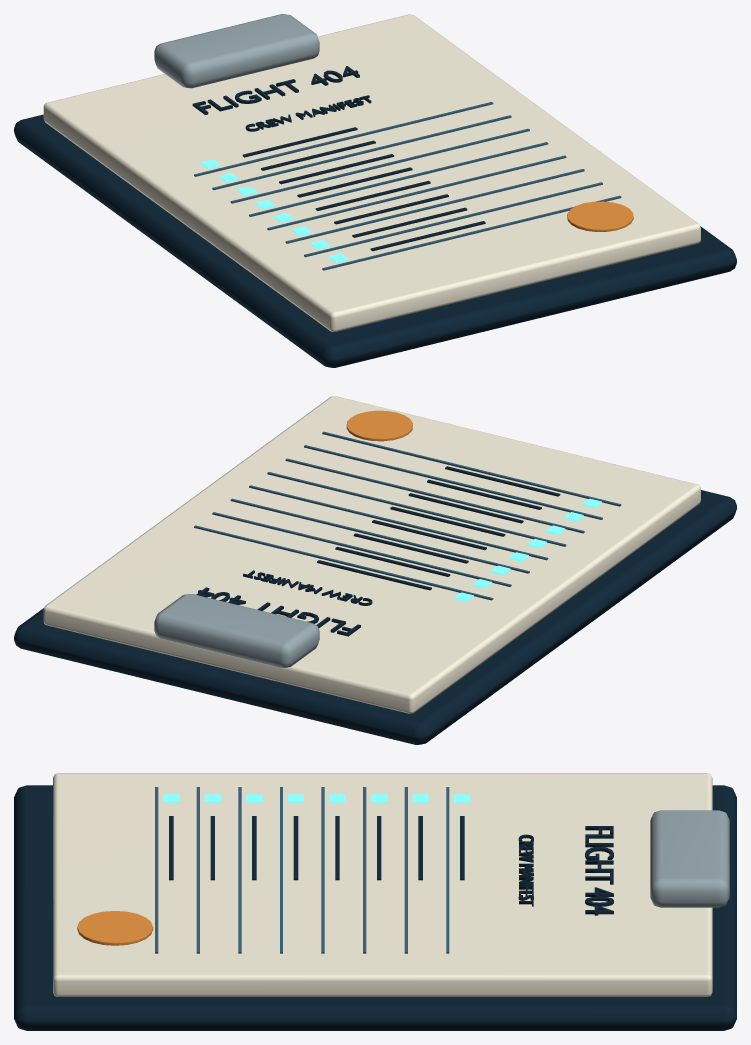
The model's file is crew-documents.glb.
3 renders of one model, top to bottom at view 1: azimuth 30°, elevation 25°; view 2: azimuth 150°, elevation 25°; view 3: azimuth 270°, elevation 25°, orthographic. The views are drawn at different scales.
Visible parts, largest first — view 1: crew-documents; view 2: crew-documents; view 3: crew-documents.
Part boxes in pixels (x1,y1,x2,y2): crew-documents: [14, 14, 736, 367]; crew-documents: [14, 396, 736, 744]; crew-documents: [14, 773, 736, 1030].
Bounding box in the file's own units: 0.3 × 0.047 × 0.4.
